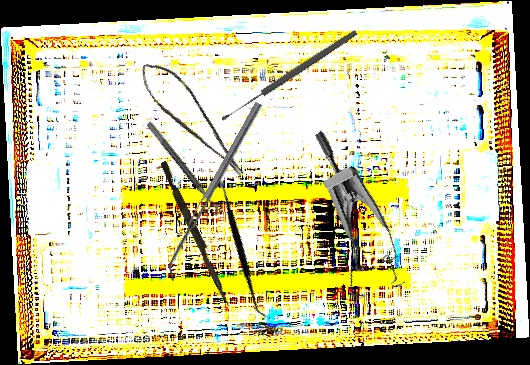Fixation Ring: (138, 120, 223, 222)
Micro Scissor: (132, 50, 249, 193)
Pusher: (156, 160, 236, 308)
Spatula Surgical: (167, 175, 315, 319), (160, 101, 269, 282)
Speculum: (257, 129, 433, 314)
Surgical Spoon: (219, 28, 359, 123)
